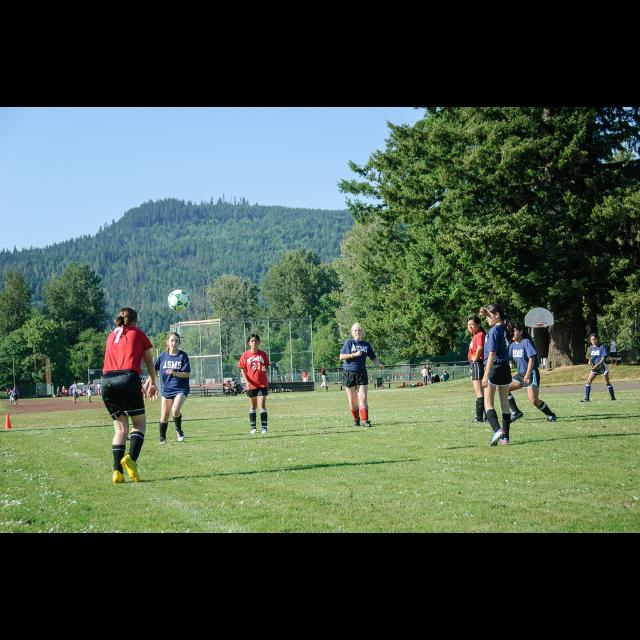Football: (166, 290, 188, 312)
